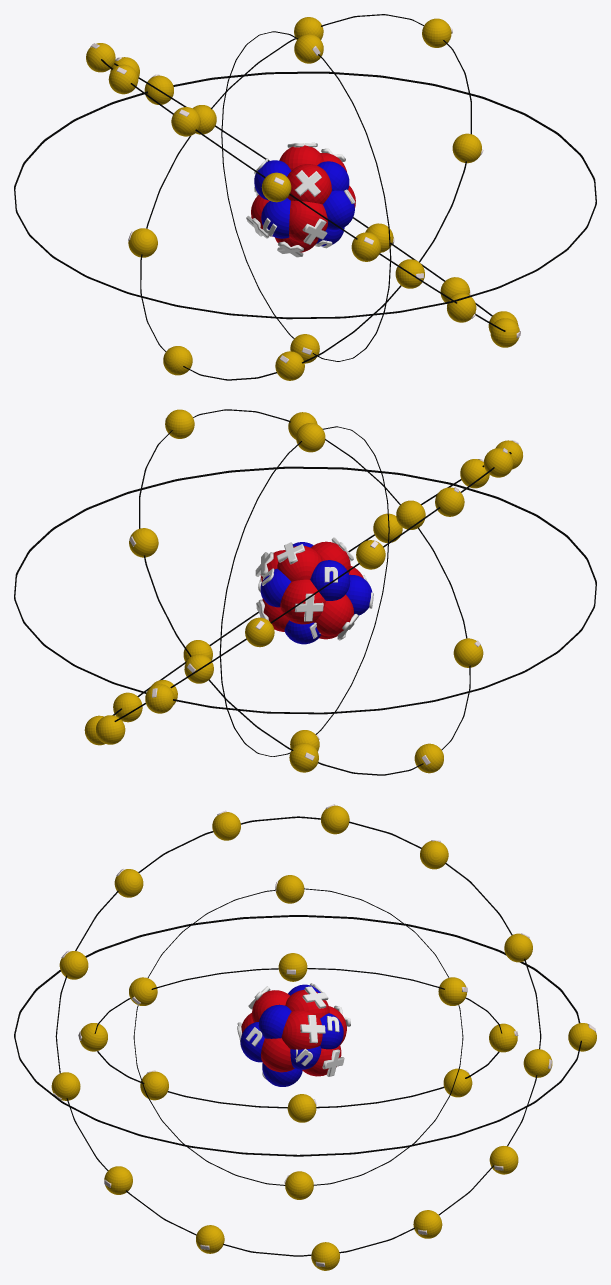
3 views of the same model, one above another, from view 1: azimuth 30°, elevation 25°; view 2: azimuth 150°, elevation 25°; view 3: azimuth 270°, elevation 25° (orthographic). The views are drawn at different scales.
Parts seen in each view (by area): view 1: Circle.003, Circle.001, Circle, Circle.002, Sphere.025, Sphere.014, Sphere.012, Sphere.018, Sphere.007, Sphere.013, Sphere.026, Sphere.016 (+17 smaller); view 2: Circle.003, Circle.001, Circle, Sphere.005, Circle.002, Sphere.011, Sphere.015, Sphere.007, Sphere.018, Sphere.003, Sphere.027, Sphere.026 (+17 smaller); view 3: Circle.003, Circle.002, Circle.001, Circle, Sphere.030, Sphere, Sphere.024, Sphere.016, Sphere.019, Sphere.002, Sphere.036, Sphere.034 (+21 smaller).
Part boxes in pixels (box(x1,y1,x2,y2)): Circle.003: box(14, 71, 596, 319); Circle.001: box(140, 14, 471, 380); Circle: box(221, 31, 391, 361); Circle.002: box(101, 59, 505, 331); Sphere.025: box(289, 200, 327, 242); Sphere.014: box(287, 164, 331, 204); Sphere.012: box(323, 190, 354, 229); Sphere.018: box(261, 198, 290, 238); Sphere.007: box(279, 145, 323, 170); Sphere.013: box(452, 133, 481, 163); Sphere.026: box(422, 18, 451, 47); Sphere.016: box(163, 346, 192, 375); Circle.003: box(14, 466, 596, 714); Circle.001: box(139, 409, 470, 775); Circle: box(219, 426, 389, 756); Sphere.005: box(280, 579, 325, 624); Circle.002: box(112, 452, 511, 721); Sphere.011: box(314, 594, 353, 636); Sphere.015: box(310, 560, 350, 600); Sphere.007: box(277, 546, 322, 581); Sphere.018: box(345, 574, 372, 615); Sphere.003: box(296, 423, 325, 452); Sphere.027: box(261, 568, 291, 607); Sphere.026: box(165, 409, 194, 438); Circle.003: box(14, 915, 581, 1156); Circle.002: box(55, 816, 541, 1256); Circle.001: box(94, 968, 502, 1108); Circle: box(133, 888, 463, 1185); Sphere.030: box(281, 1010, 322, 1049); Sphere: box(261, 1038, 294, 1072); Sphere.024: box(258, 1004, 291, 1038); Sphere.016: box(287, 1094, 316, 1122); Sphere.019: box(443, 1068, 472, 1097); Sphere.002: box(285, 1171, 313, 1199); Sphere.036: box(212, 812, 240, 840); Sphere.034: box(504, 933, 532, 962).
Bounding box in the file's own units: 99.42 × 62.06 × 102.
